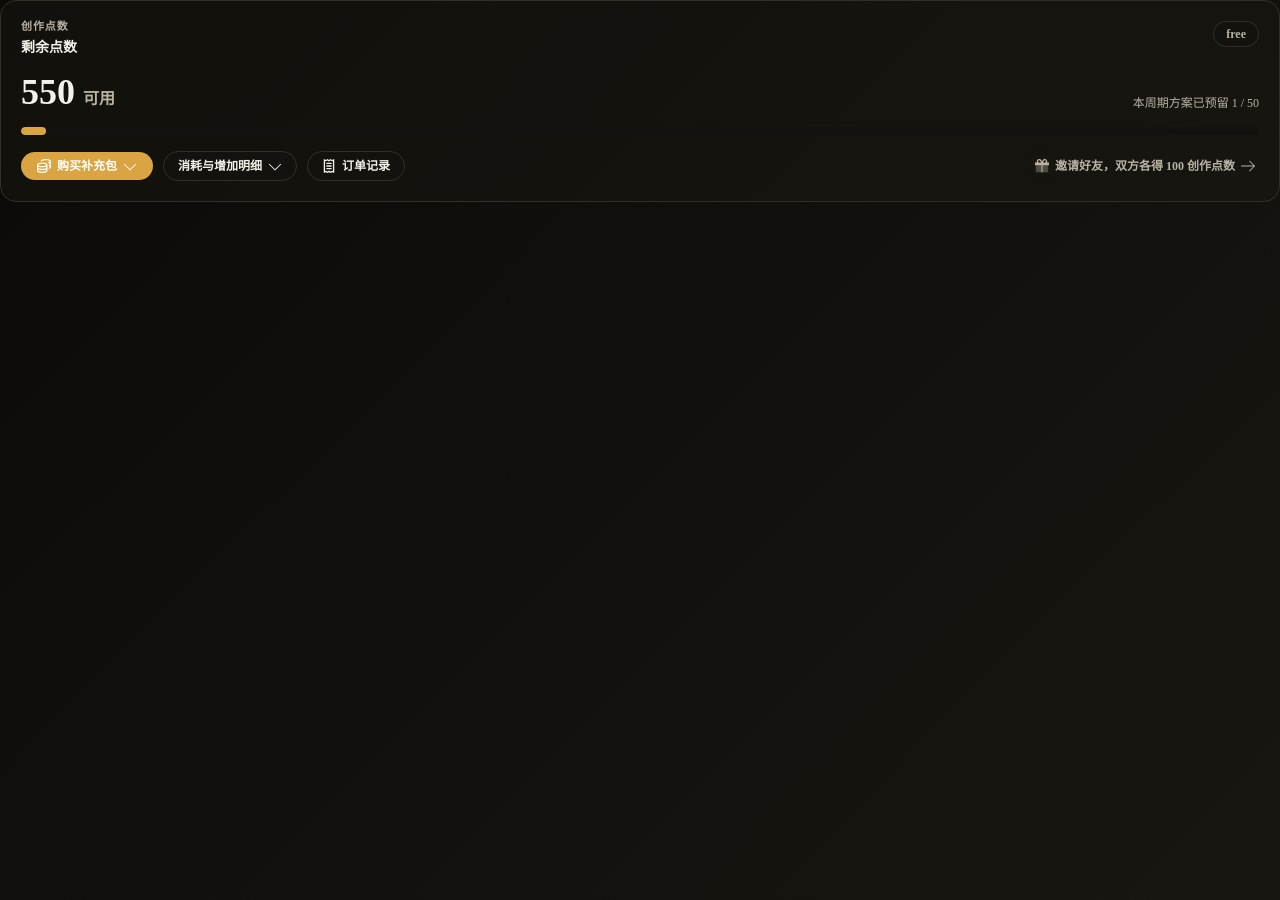
CreditBalanceCard › opens the credit pack store inside the card from the primary buy button
This screenshot has width=1280, height=900.
Expected: the text "入门包" is not shown
Click the button "购买补充包".
click(87, 166)  # box [21,152,153,180]
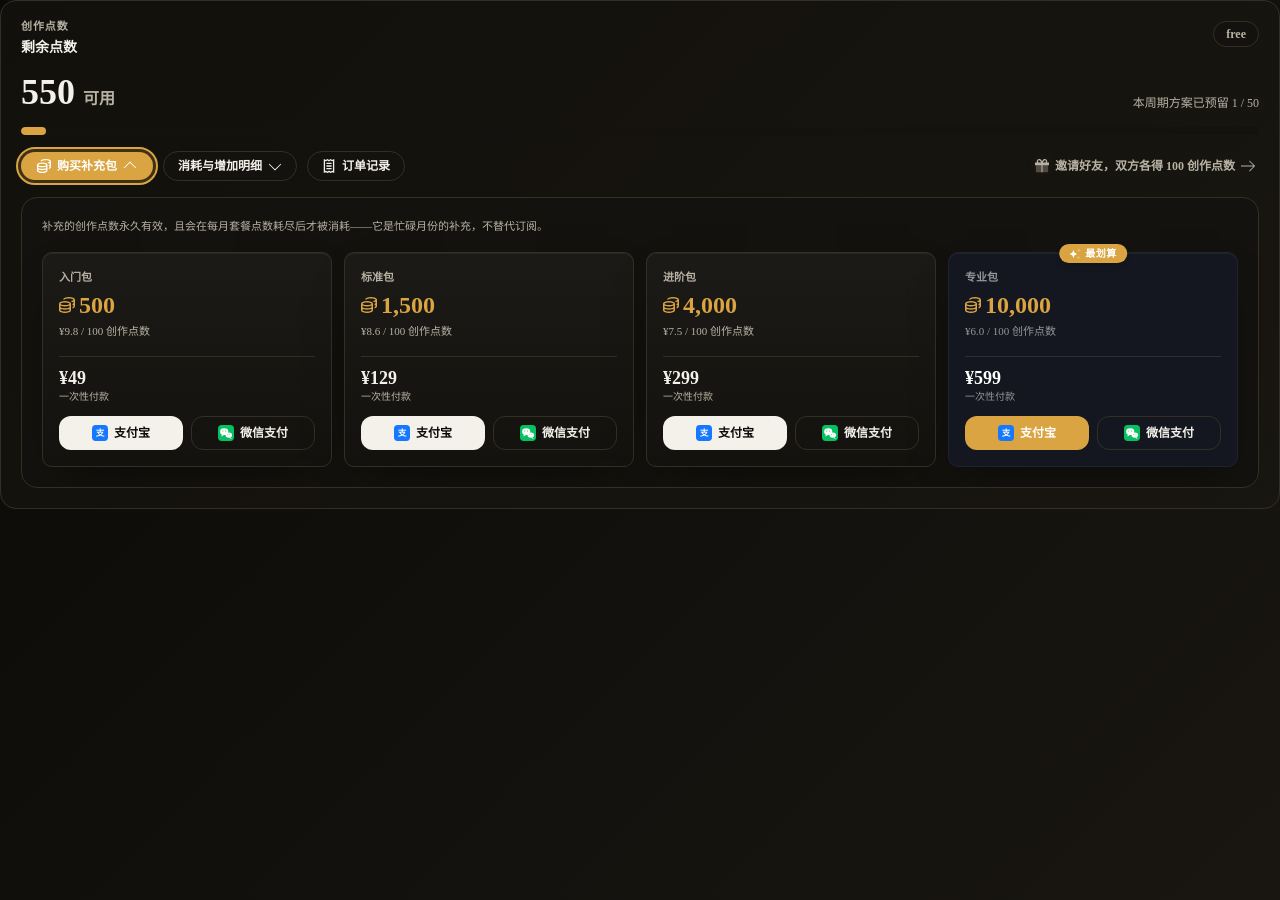
Now the button "购买补充包" is expanded, box [21,152,153,180]
Now the text "入门包" is shown, box [59,271,92,283]
Now the number of buttons "支 支付宝" is 4, box [59,416,183,450]; [361,416,485,450]; [663,416,787,450]; [965,416,1089,450]
